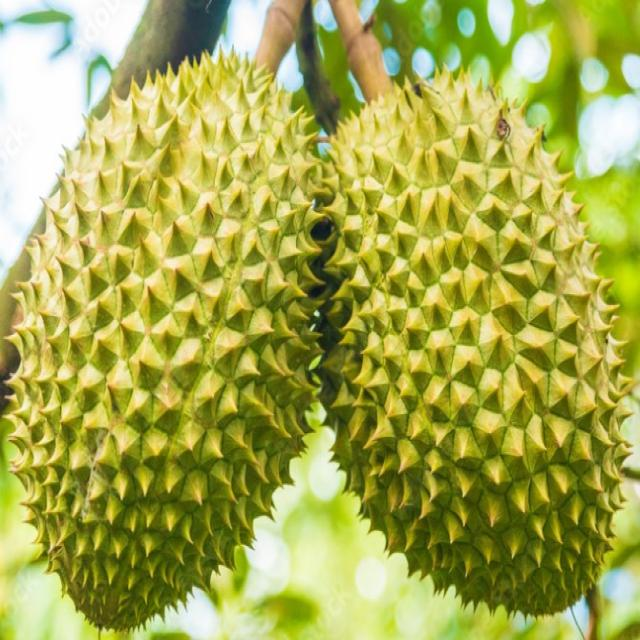immature: (9, 53, 335, 640), (301, 56, 625, 616)
